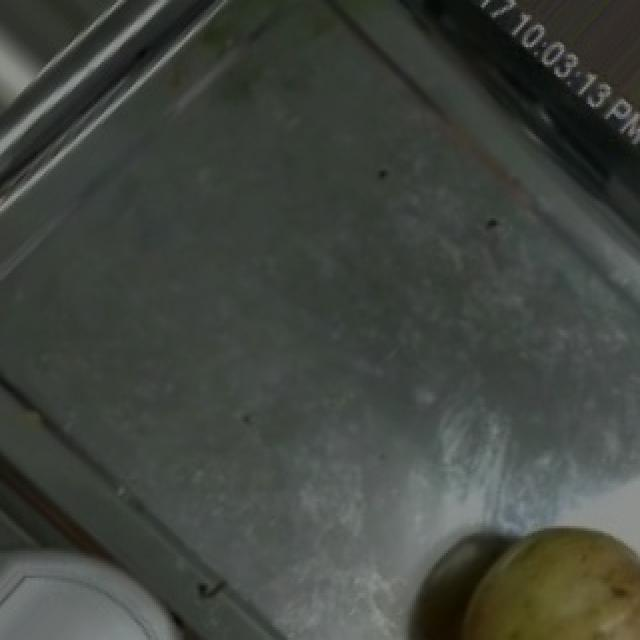fruit: (436, 501, 640, 640)
